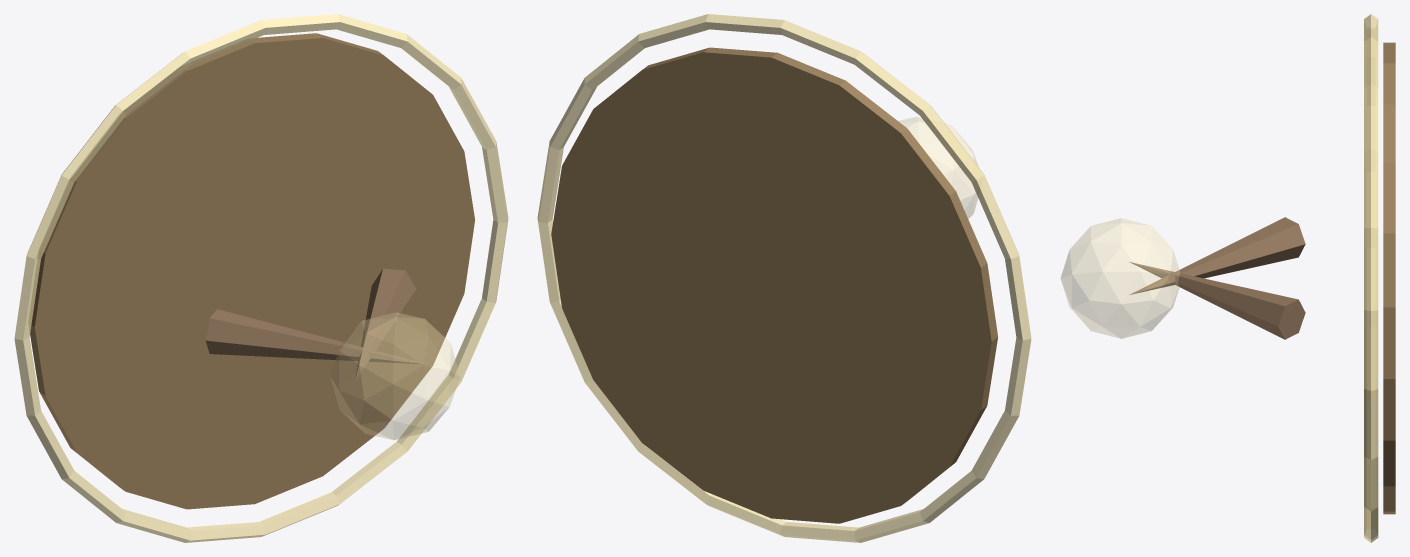
The model's file is 07_weather_terrain_nature_effect.glb.
The picture shows the model from 3 angles, left to right: view 1: azimuth 30°, elevation 25°; view 2: azimuth 150°, elevation 25°; view 3: azimuth 270°, elevation 25°; orthographic projection. The views are drawn at different scales.
Parts seen in each view (by area): view 1: terrain_patch, weather_boundary, weather_orb, root_spike_l, root_spike_r; view 2: terrain_patch, weather_boundary, weather_orb; view 3: weather_orb, weather_boundary, terrain_patch, root_spike_r, root_spike_l.
Boxes of the visible parts, left/top/right/bottom form: terrain_patch: left=29, top=33, right=474, bottom=509; weather_boundary: left=14, top=14, right=508, bottom=542; weather_orb: left=330, top=312, right=459, bottom=439; root_spike_l: left=205, top=309, right=425, bottom=364; root_spike_r: left=354, top=268, right=416, bottom=381; terrain_patch: left=551, top=47, right=997, bottom=523; weather_boundary: left=537, top=14, right=1031, bottom=542; weather_orb: left=898, top=117, right=978, bottom=218; weather_orb: left=1060, top=218, right=1180, bottom=338; weather_boundary: left=1364, top=14, right=1378, bottom=542; terrain_patch: left=1383, top=42, right=1395, bottom=514; root_spike_r: left=1130, top=262, right=1305, bottom=339; root_spike_l: left=1130, top=217, right=1305, bottom=294.
Size of the model in its own units: 1.75 by 1.75 by 1.1.
